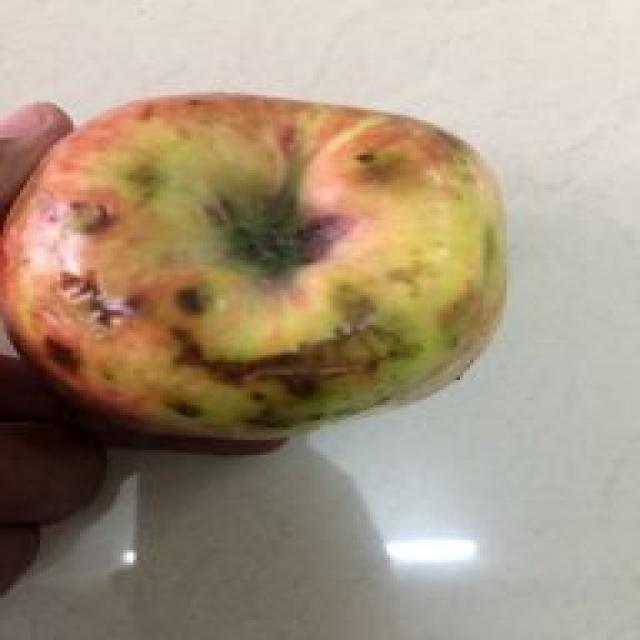Bad_Apple: (8, 94, 505, 439)
